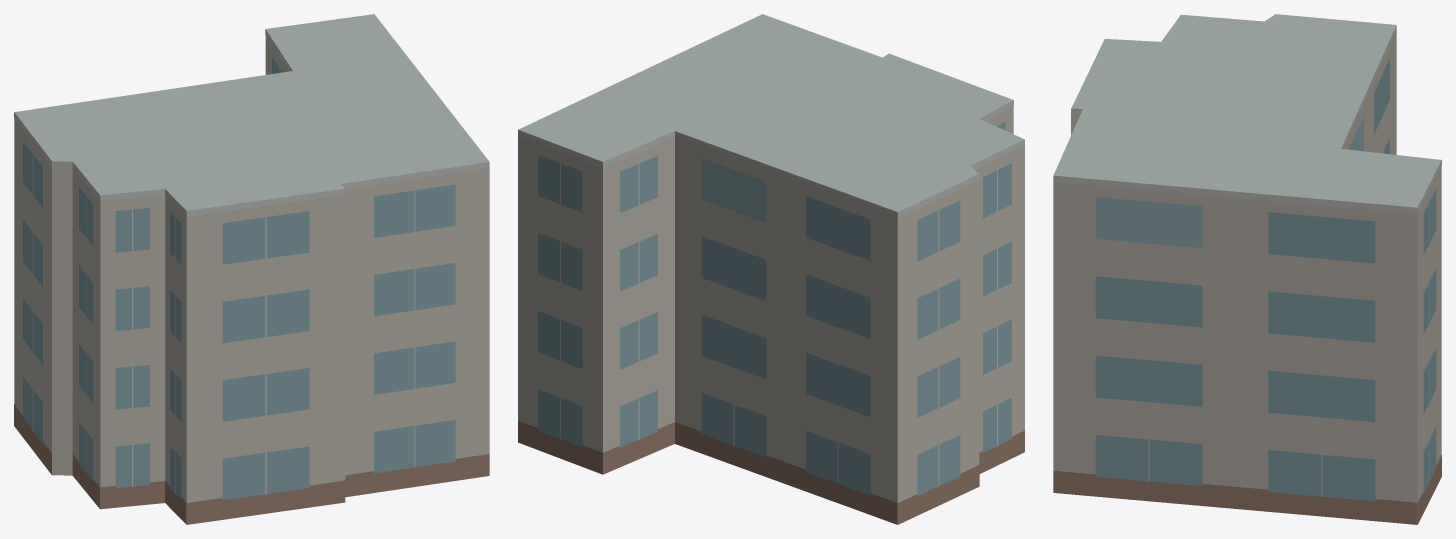
File: survey-upis-32654733.glb
3 renders of one model, left to right at view 1: azimuth 30°, elevation 25°; view 2: azimuth 150°, elevation 25°; view 3: azimuth 270°, elevation 25°, orthographic.
Parts seen in each view (by area): view 1: survey-upis-32654733.tmp; view 2: survey-upis-32654733.tmp; view 3: survey-upis-32654733.tmp.
Boxes of the visible parts, bbox=[...] form: survey-upis-32654733.tmp: bbox=[14, 14, 489, 524]; survey-upis-32654733.tmp: bbox=[518, 14, 1024, 524]; survey-upis-32654733.tmp: bbox=[1053, 14, 1441, 524].
Size of the model in its own units: 16.64 by 12.7 by 14.1.
